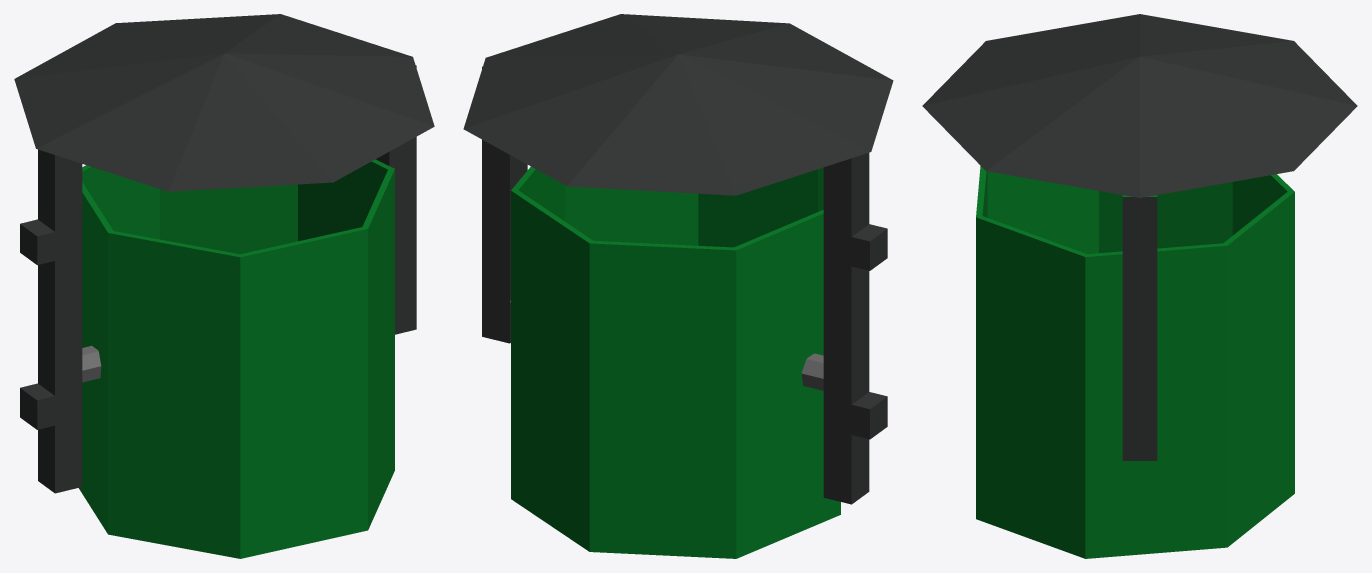
Rendered from Model_Kosz1.fbx.
The picture shows the model from 3 angles, left to right: view 1: azimuth 30°, elevation 25°; view 2: azimuth 150°, elevation 25°; view 3: azimuth 270°, elevation 25°; orthographic projection. The views are drawn at different scales.
Parts seen in each view (by area): view 1: Cylinder; view 2: Cylinder; view 3: Cylinder.
Part boxes in pixels (x1,y1,x2,y2): Cylinder: (14, 14, 434, 558); Cylinder: (463, 14, 893, 558); Cylinder: (922, 14, 1357, 558).
Size of the model in its own units: 94.14 by 103 by 96.
